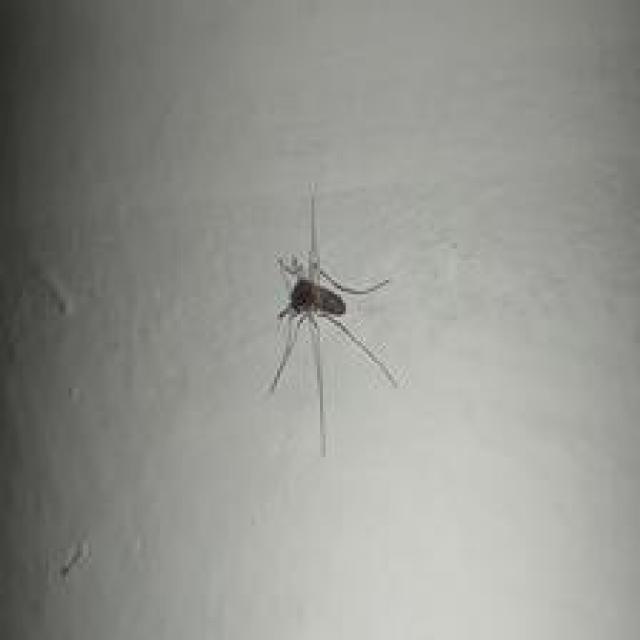Culex: (264, 183, 399, 457)
